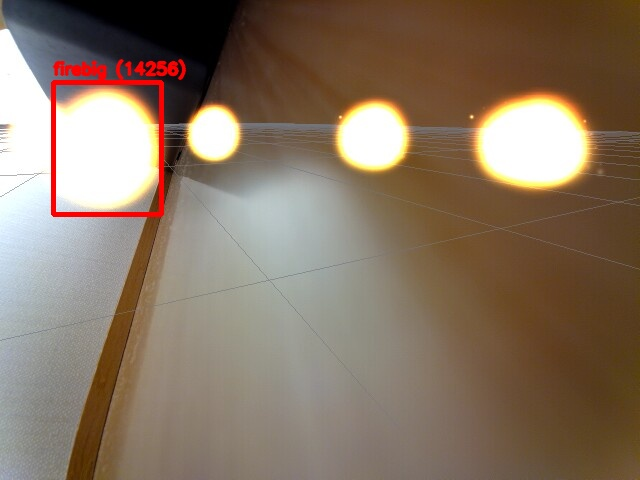firebig: (53, 82, 161, 214)
